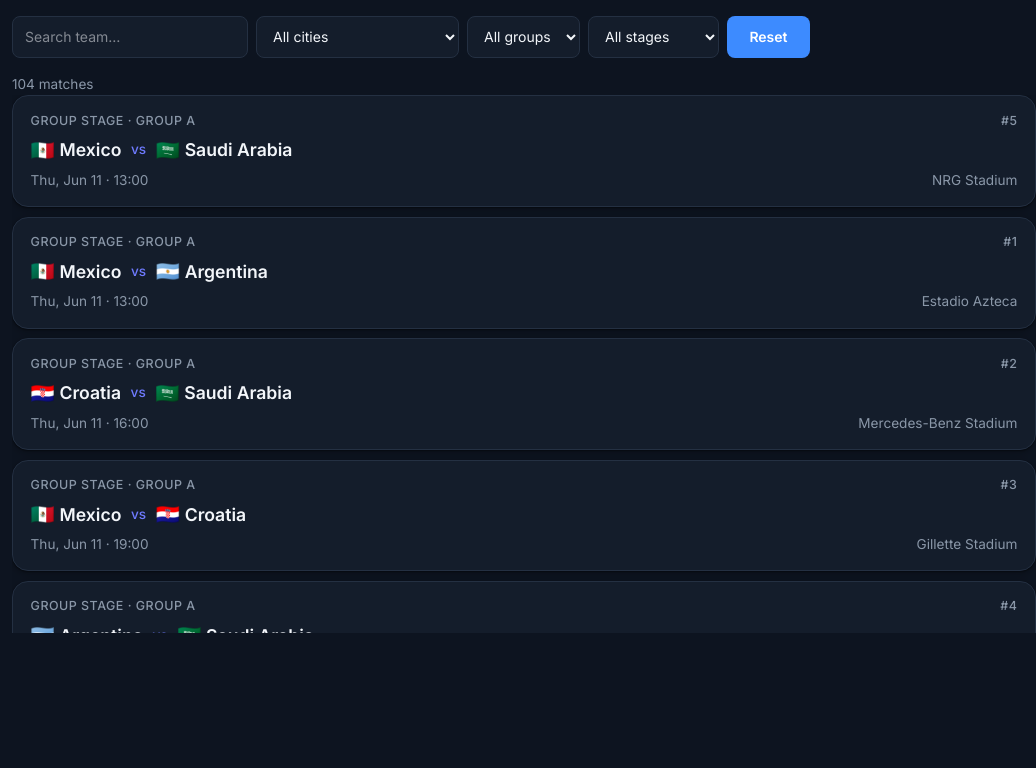
Test: ScheduleView › filters by stage select
Select "Final" in the dropdown named "Stage" at (654, 37), box [588,16,719,58]
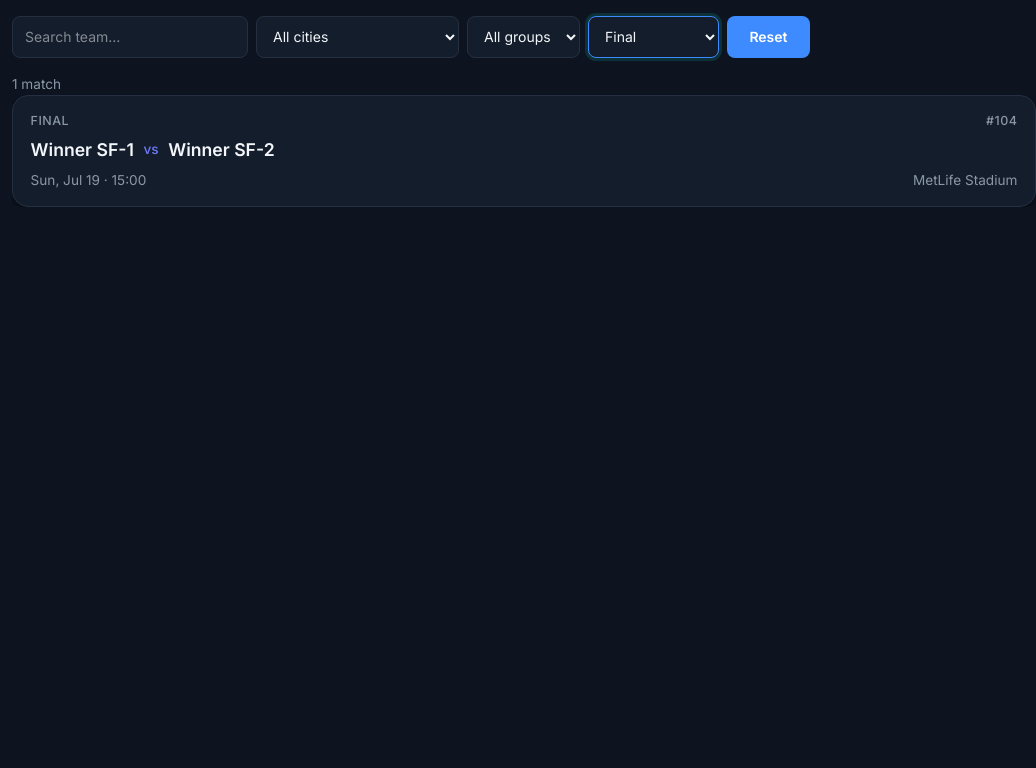
Expected: the text with test id "match-count" reads "1 match", [12,76,61,92]
